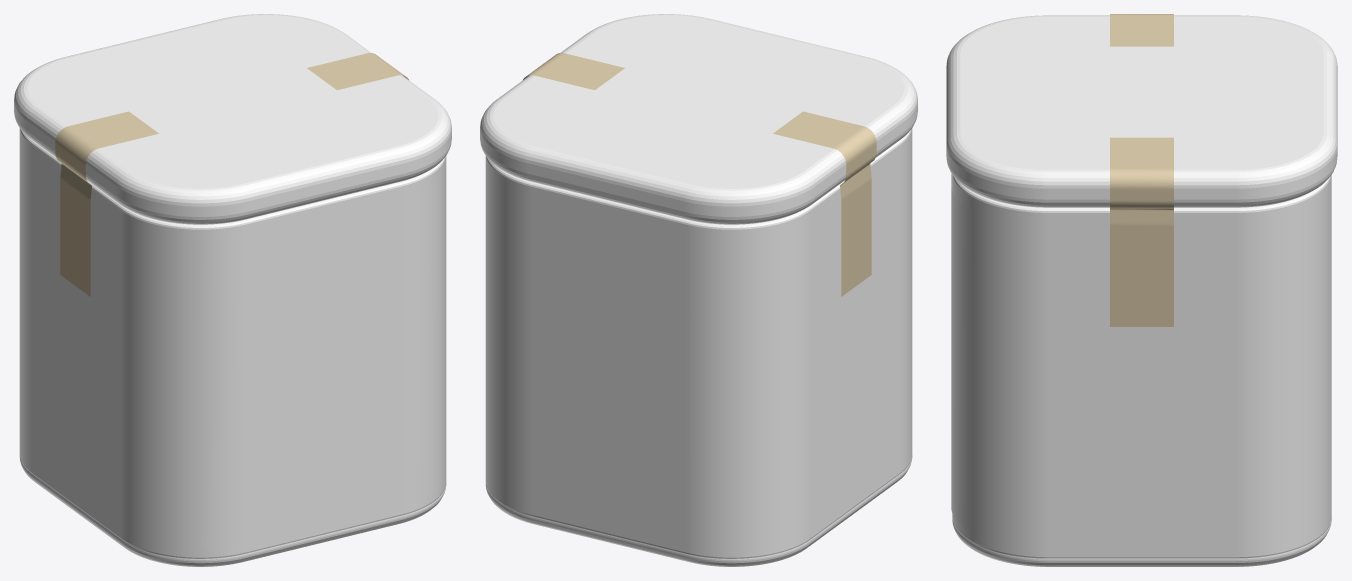
The model's file is nurul_hadis_jar.obj.
The picture shows the model from 3 angles, left to right: view 1: azimuth 30°, elevation 25°; view 2: azimuth 150°, elevation 25°; view 3: azimuth 270°, elevation 25°; orthographic projection. The views are drawn at different scales.
Visible parts, largest first — view 1: sticker_front, glass_walls, lid_cap, sticker_logo, seal_left_back, glass_base, seal_right_back; view 2: glass_walls, lid_cap, sticker_logo, seal_left_back, glass_base, seal_right_back; view 3: glass_walls, lid_cap, seal_right_back, sticker_logo, sticker_front, glass_base, seal_left_back.
Part boxes in pixels (x1,y1,x2,y2): sticker_front: (189,182,439,549); glass_walls: (19,128,446,558); lid_cap: (14,14,451,224); sticker_logo: (134,58,331,141); seal_left_back: (55,111,158,296); glass_base: (19,455,446,566); seal_right_back: (307,53,408,90); glass_walls: (485,128,912,558); lid_cap: (480,14,917,224); sticker_logo: (600,58,797,141); seal_left_back: (773,111,876,296); glass_base: (485,455,912,566); seal_right_back: (523,53,624,90); glass_walls: (952,175,1331,558); lid_cap: (946,15,1337,207); seal_right_back: (1110,137,1173,326); sticker_logo: (1066,59,1217,122); sticker_front: (951,173,970,531); glass_base: (952,518,1331,566); seal_left_back: (1110,14,1173,46).
Size of the model in its own units: 0.0987 by 0.1107 by 0.098.
